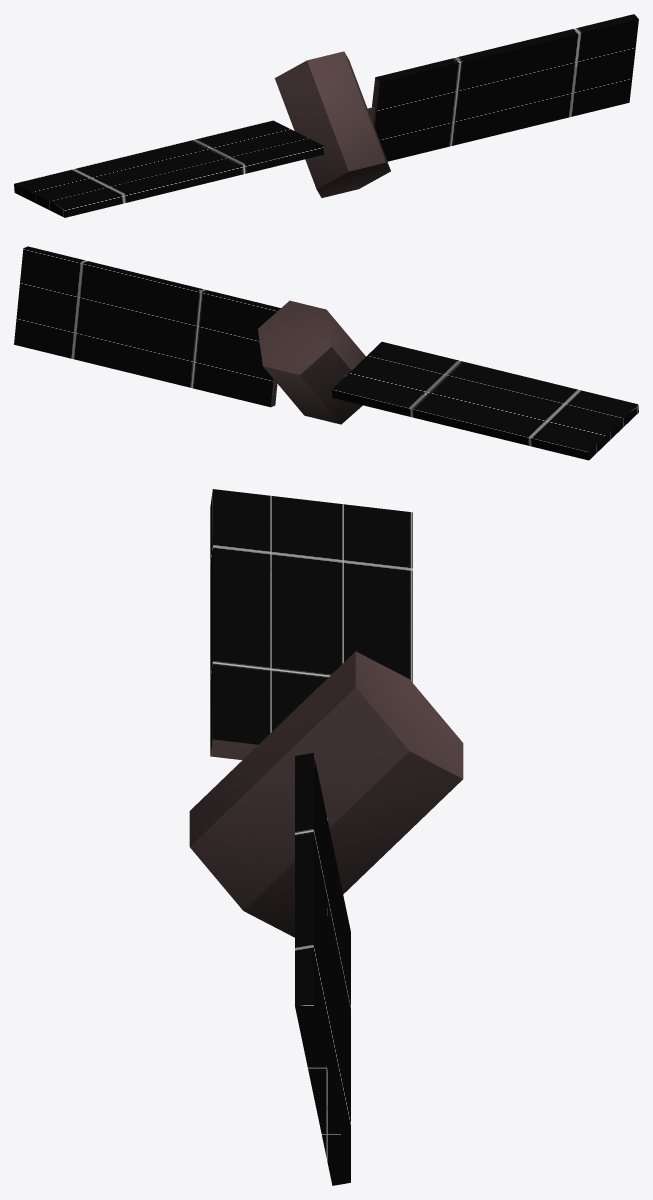
File: Satellite.fbx
The picture shows the model from 3 angles, top to bottom: view 1: azimuth 30°, elevation 25°; view 2: azimuth 150°, elevation 25°; view 3: azimuth 270°, elevation 25°; orthographic projection. The views are drawn at different scales.
Visible parts, largest first — view 1: Satellite; view 2: Satellite; view 3: Satellite.
Boxes of the visible parts, x1,y1,x2,y2 form: Satellite: (14, 14, 638, 217); Satellite: (14, 246, 638, 460); Satellite: (189, 489, 463, 1185).
Size of the model in its own units: 172 by 35.11 by 34.61.
